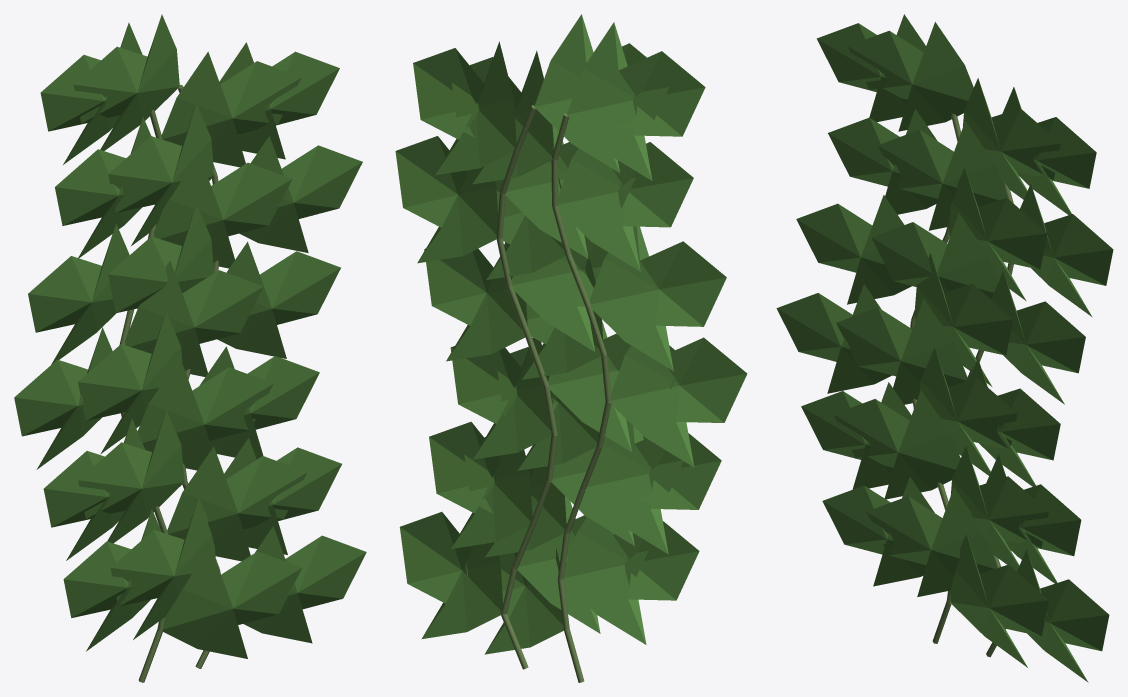
The model's file is parthenocissus-dalzielii.glb.
The picture shows the model from 3 angles, left to right: view 1: azimuth 30°, elevation 25°; view 2: azimuth 150°, elevation 25°; view 3: azimuth 330°, elevation 25°; orthographic projection. The views are drawn at different scales.
Parts seen in each view (by area): view 1: Climber species leaves, Climber species stems; view 2: Climber species leaves, Climber species stems; view 3: Climber species leaves, Climber species stems.
Boxes of the visible parts, x1=… form: Climber species leaves: x1=14, y1=14, x2=366, y2=658; Climber species stems: x1=119, y1=84, x2=220, y2=682; Climber species leaves: x1=395, y1=14, x2=747, y2=654; Climber species stems: x1=496, y1=105, x2=611, y2=682; Climber species leaves: x1=776, y1=14, x2=1113, y2=682; Climber species stems: x1=910, y1=113, x2=1013, y2=657.
Size of the model in its own units: 0.4981 by 0.9054 by 0.0708.
